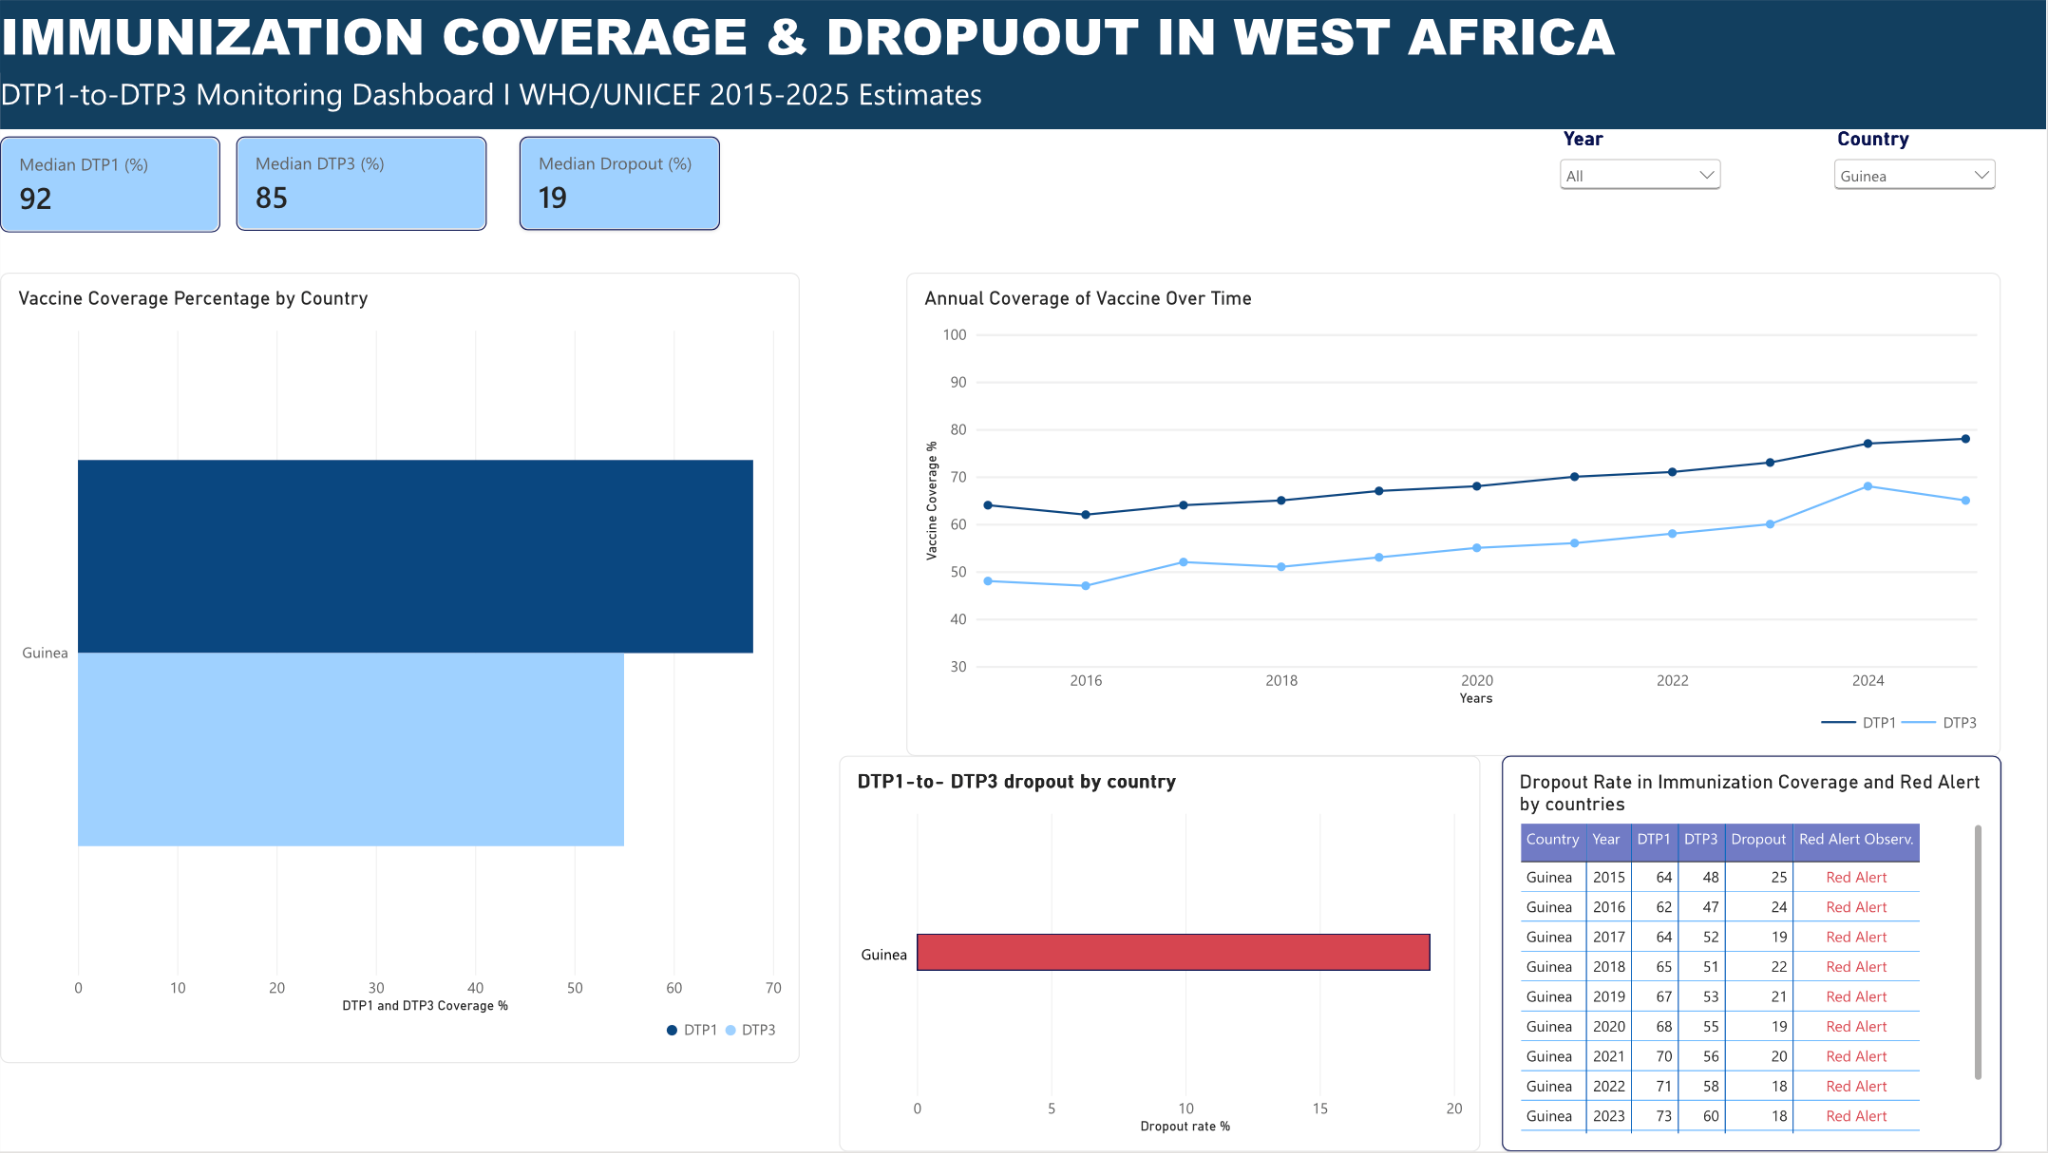

What the dashboard file says about the page in this screenshot:
{"tool":"powerbi","page":{"name":"Page 1","canvas":[1920,1080],"ordinal":0},"visuals":[{"type":"lineChart","title":"Annual Coverage of Vaccine Over Time","fields":{"Category":["West Africa.Period"],"Y":["Median(West Africa.DTP1)","Median(West Africa.DTP3)"]},"box":[850,255,1026.7,453.3],"z":0},{"type":"shape","title":"  IMMUNIZATION COVERAGE & DROPUOUT IN WEST AFRICA","box":[0,0,1919.4,128.4],"z":1},{"type":"slicer","title":"Year","fields":{"Values":["West Africa.Year"]},"box":[1458.3,121.7,161,86.7],"z":2},{"type":"cardVisual","fields":{"Data":["Median(West Africa.Median DTP1)"]},"box":[0,128.3,206.7,90],"z":8},{"type":"slicer","fields":{"Values":["West Africa.Location"]},"box":[1715,121.7,161.7,73.3],"z":9},{"type":"cardVisual","fields":{"Data":["Median(West Africa.Median DTP3)"]},"box":[221.7,128.3,235,88.3],"z":10},{"type":"cardVisual","fields":{"Data":["Median(West Africa.Dropout %)"]},"box":[486.6,128.4,188.1,88.1],"z":11},{"type":"clusteredBarChart","title":"DTP1-to- DTP3  dropout by country","fields":{"Category":["West Africa.Location"],"Y":["Median(West Africa.Dropout)"]},"box":[786.7,708.3,601.7,371.7],"z":14},{"type":"tableEx","title":"Dropout Rate in  Immunization Coverage and Red Alert by countries ","fields":{"Values":["West Africa.Country","West Africa.Year","West Africa.DTP1","West Africa.DTP3","West Africa.Dropout","West Africa.Red Alert Observ."]},"box":[1408.3,708.3,468.3,371.7],"z":15},{"type":"clusteredBarChart","title":"Vaccine Coverage Percentage  by Country","fields":{"Category":["West Africa.Country"],"Y":["Median(West Africa.DTP1)","Median(West Africa.DTP3)"]},"box":[0,255,750,741.7],"z":16}]}

Visuals, with their boxes in screenshot pixels (x1, y1, x2, y2), scaled from the page's 1920x1080 canvas onto the 2048x1153 screenshot:
"Annual Coverage of Vaccine Over Time" lineChart: <region>907, 272, 2002, 756</region>
"  IMMUNIZATION COVERAGE & DROPUOUT IN WEST AFRICA" shape: <region>0, 0, 2047, 137</region>
"Year" slicer: <region>1556, 130, 1727, 222</region>
cardVisual - Median(West Africa.Median DTP1): <region>0, 137, 220, 233</region>
slicer - West Africa.Location: <region>1829, 130, 2002, 208</region>
cardVisual - Median(West Africa.Median DTP3): <region>236, 137, 487, 231</region>
cardVisual - Median(West Africa.Dropout %): <region>519, 137, 720, 231</region>
"DTP1-to- DTP3  dropout by country" clusteredBarChart: <region>839, 756, 1481, 1152</region>
"Dropout Rate in  Immunization Coverage and Red Alert by countries " tableEx: <region>1502, 756, 2002, 1152</region>
"Vaccine Coverage Percentage  by Country" clusteredBarChart: <region>0, 272, 800, 1064</region>
